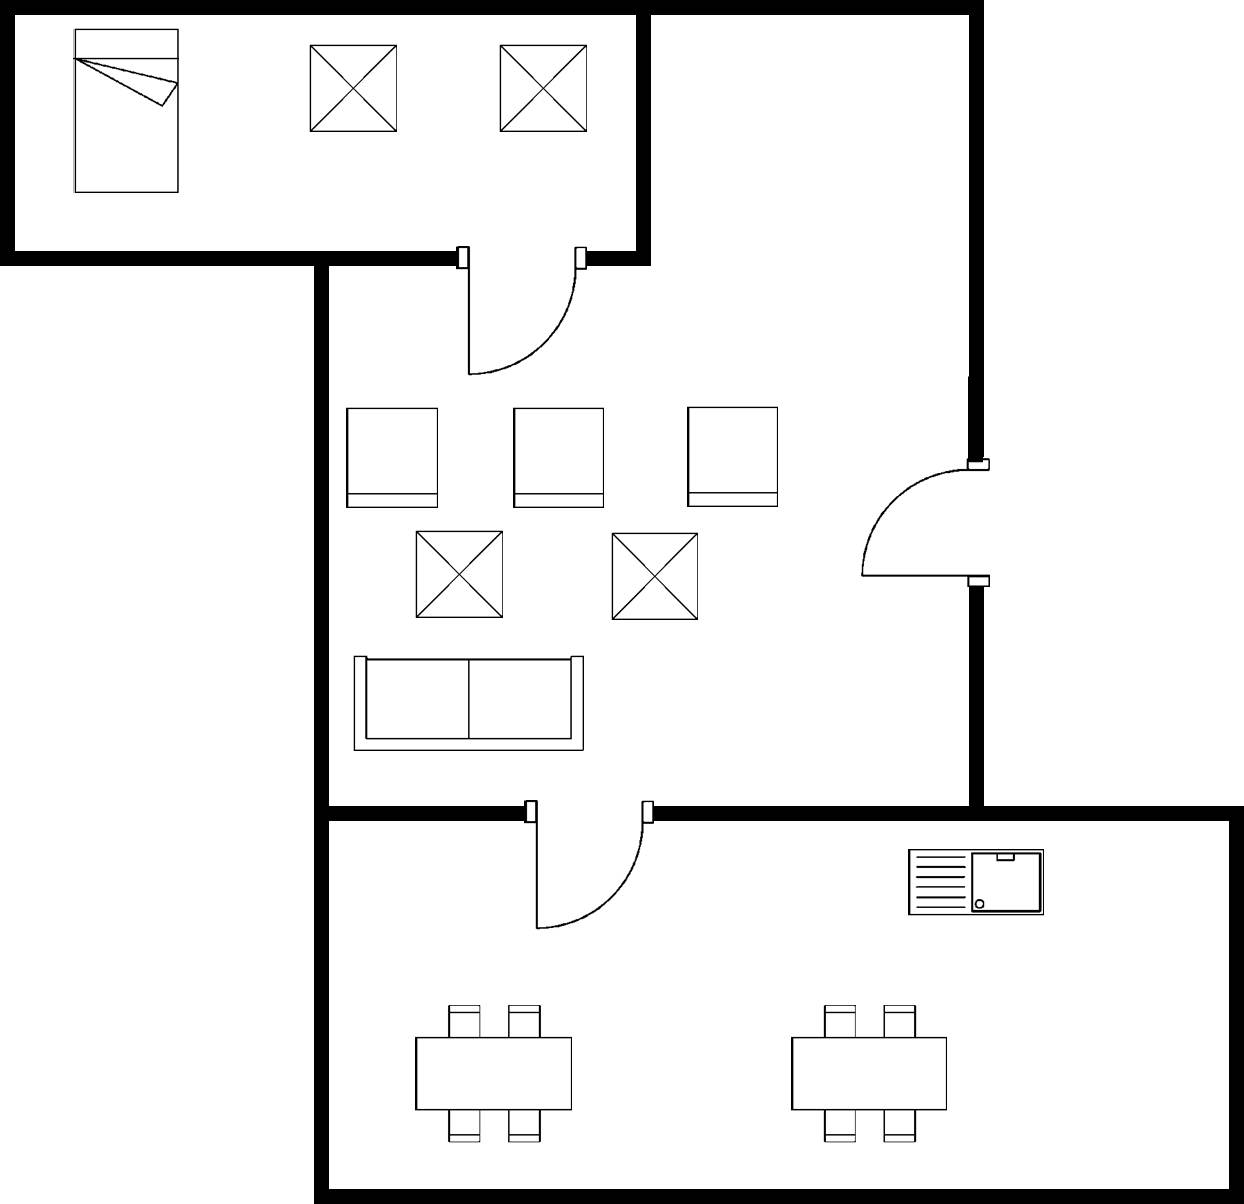bed: (65, 15, 189, 202)
coffee_table: (305, 35, 405, 148), (602, 527, 708, 630), (492, 38, 597, 140), (408, 523, 509, 626)
dining_table: (405, 990, 584, 1154), (786, 998, 957, 1148)
large_sofa: (342, 643, 597, 761)
sink: (902, 838, 1052, 927)
small_sofa: (504, 396, 615, 519), (682, 398, 791, 515), (338, 399, 449, 513)
